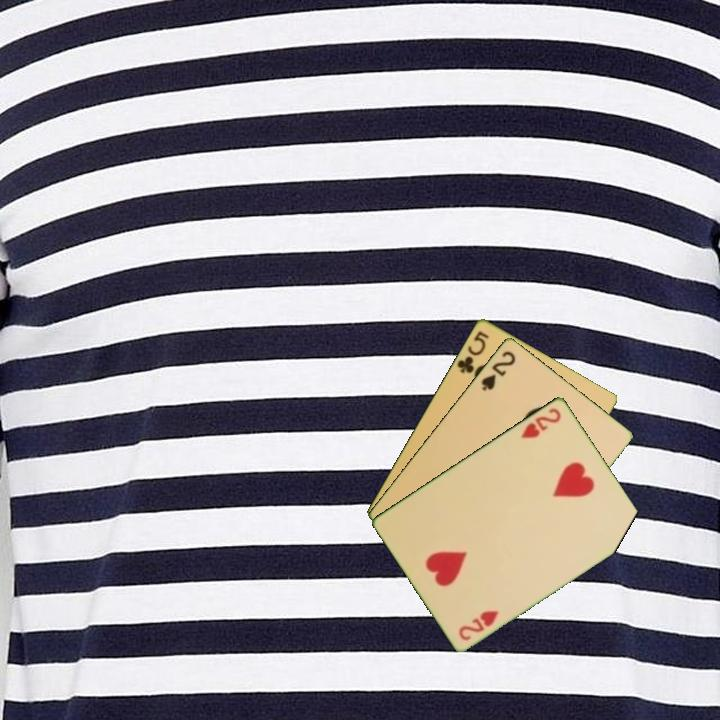2h: (517, 404, 564, 441), (455, 606, 502, 643)
2s: (477, 347, 518, 393)
5c: (453, 327, 492, 376)
